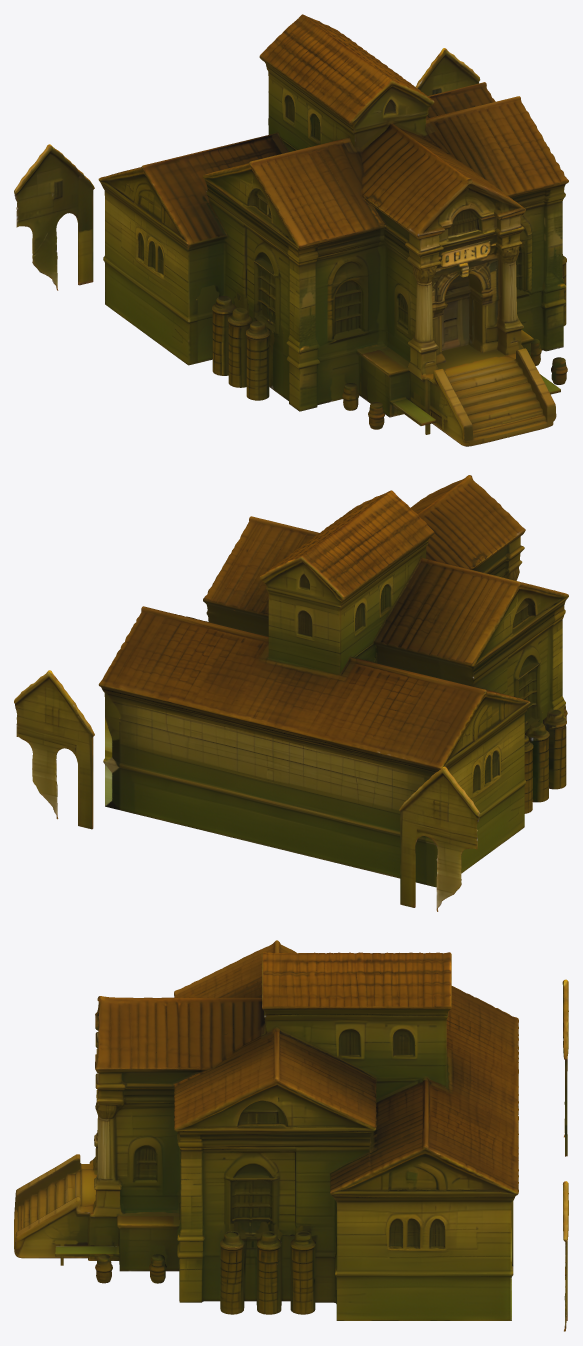
The model's file is library.glb.
The picture shows the model from 3 angles, top to bottom: view 1: azimuth 30°, elevation 25°; view 2: azimuth 150°, elevation 25°; view 3: azimuth 270°, elevation 25°; orthographic projection. The views are drawn at different scales.
Visible parts, largest first — view 1: geometry_0; view 2: geometry_0; view 3: geometry_0.
Boxes of the visible parts, bbox=[...] form: geometry_0: bbox=[14, 14, 568, 446]; geometry_0: bbox=[14, 475, 568, 911]; geometry_0: bbox=[14, 940, 568, 1331].
Bounding box in the file's own units: 1.9 × 1.06 × 1.88.
Materials: 1 (1 with a texture image).
